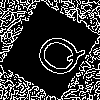Q: (24, 24, 88, 84)
